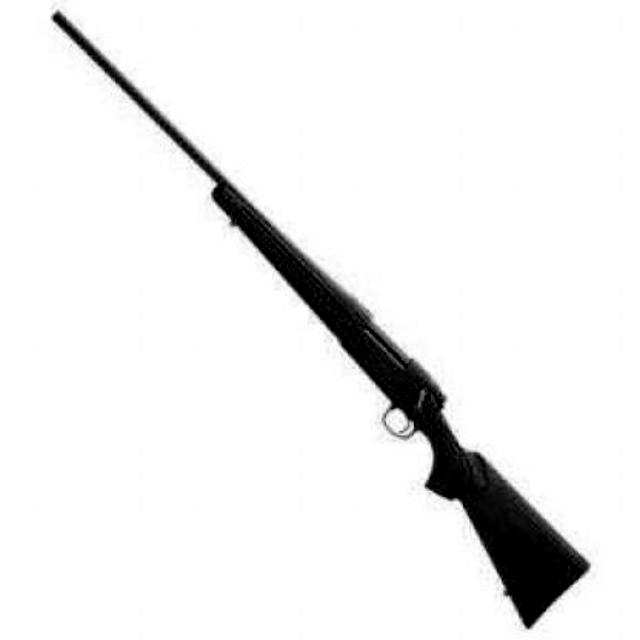rifle: (47, 8, 605, 630)
